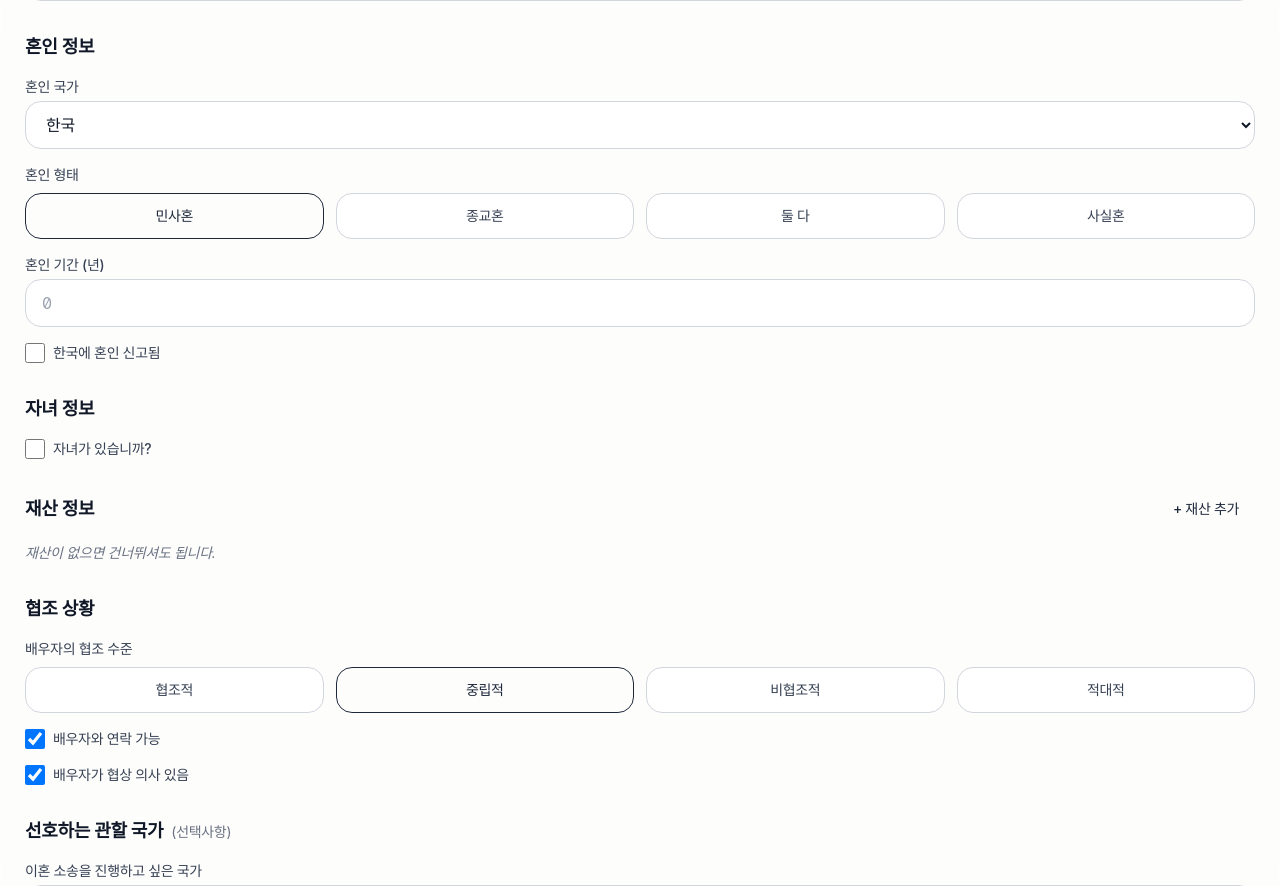
Test: InternationalDivorceForm › allows adding and removing child ages
(page scrolled)
# Enable children section
Click the checkbox labelled "자녀가 있습니까?". click: (35, 449)
box: [25, 439, 45, 459]
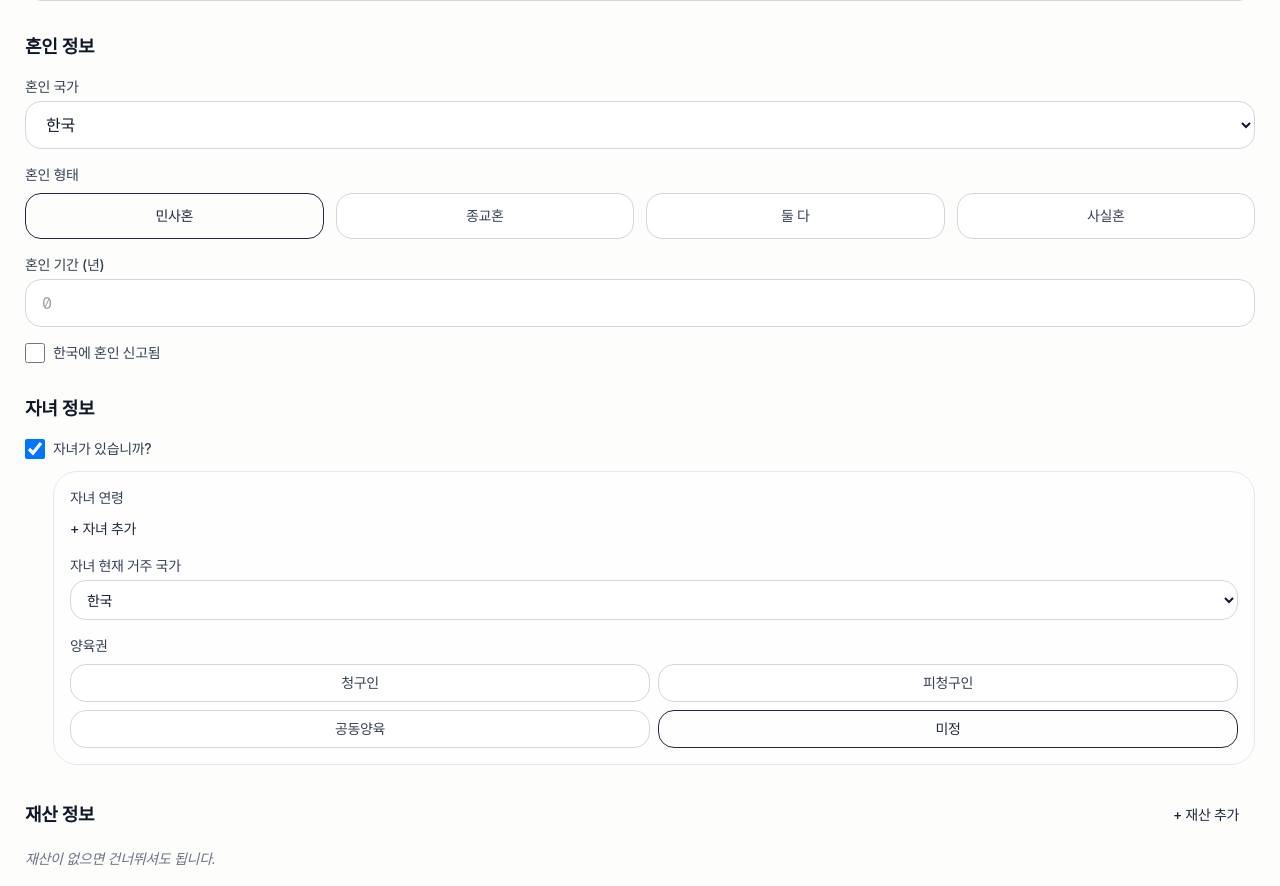
# Add child age
Click the button "+ 자녀 추가". click: (103, 529)
box: [70, 519, 136, 539]
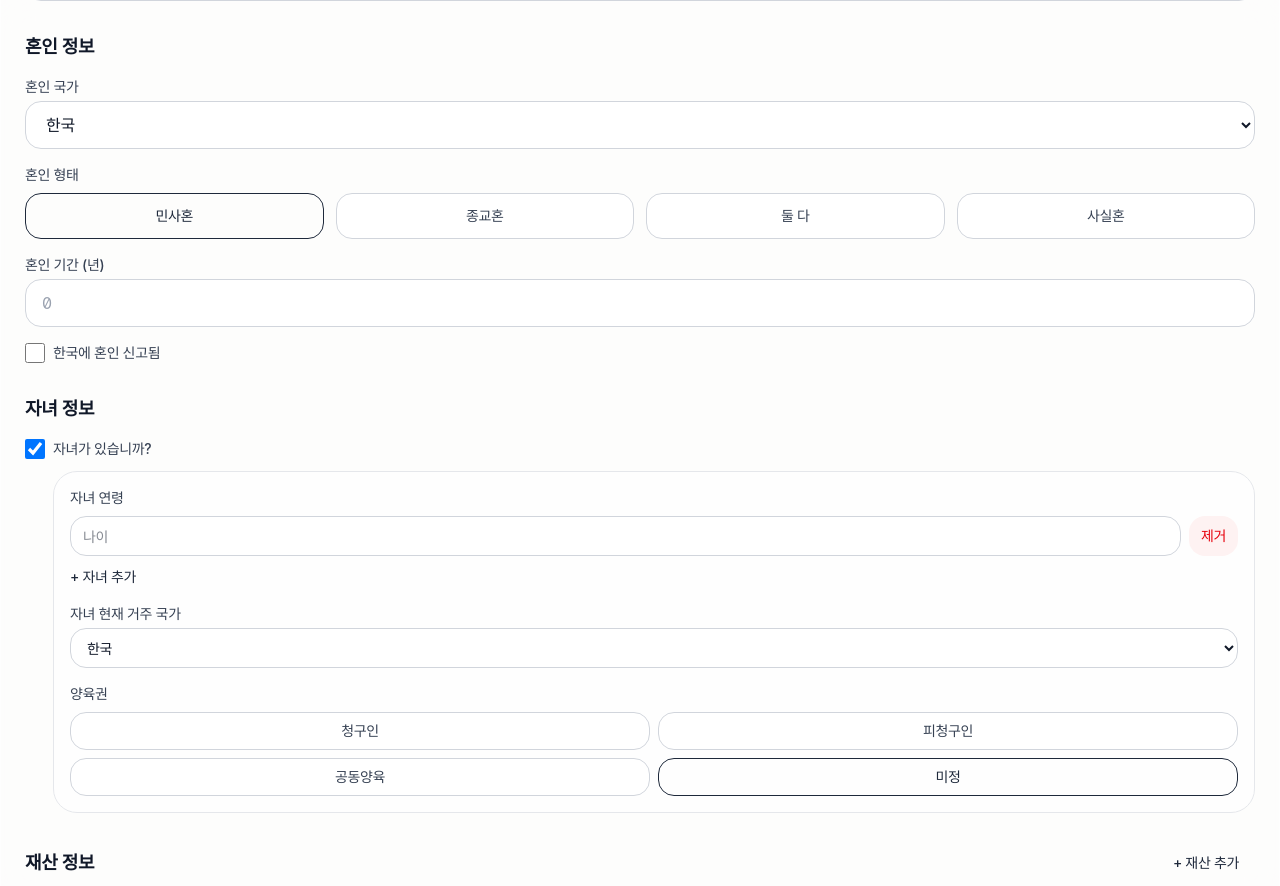
Expected: the number of number fields with placeholder "나이" is 1, [70, 516, 1181, 556]
# Add another child
Click the button "+ 자녀 추가". click: (103, 577)
box: [70, 567, 136, 587]
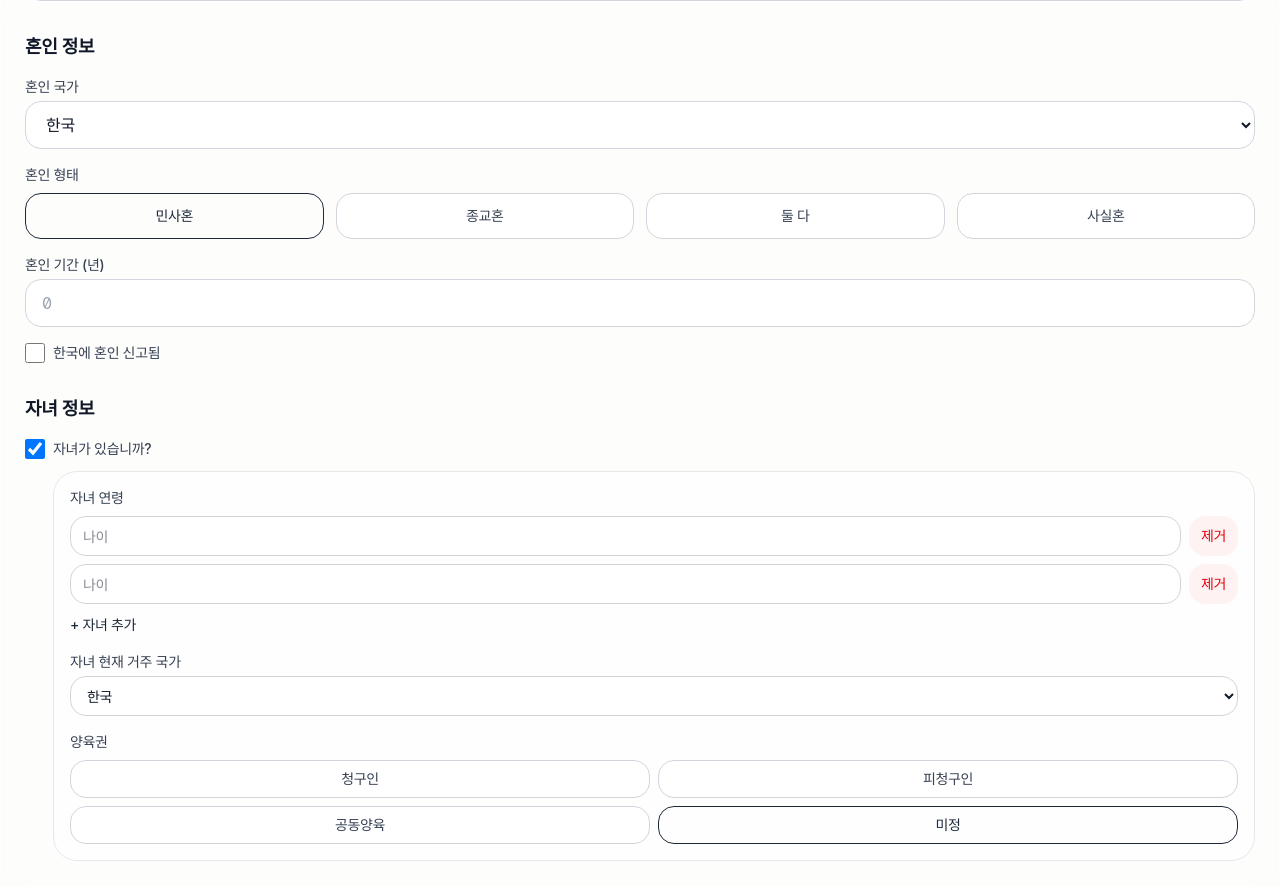
Expected: the number of number fields with placeholder "나이" is 2, [70, 516, 1181, 556]; [70, 564, 1181, 604]
# Remove first child
Click the 1st button "제거". click: (1213, 536)
box: [1189, 516, 1238, 556]
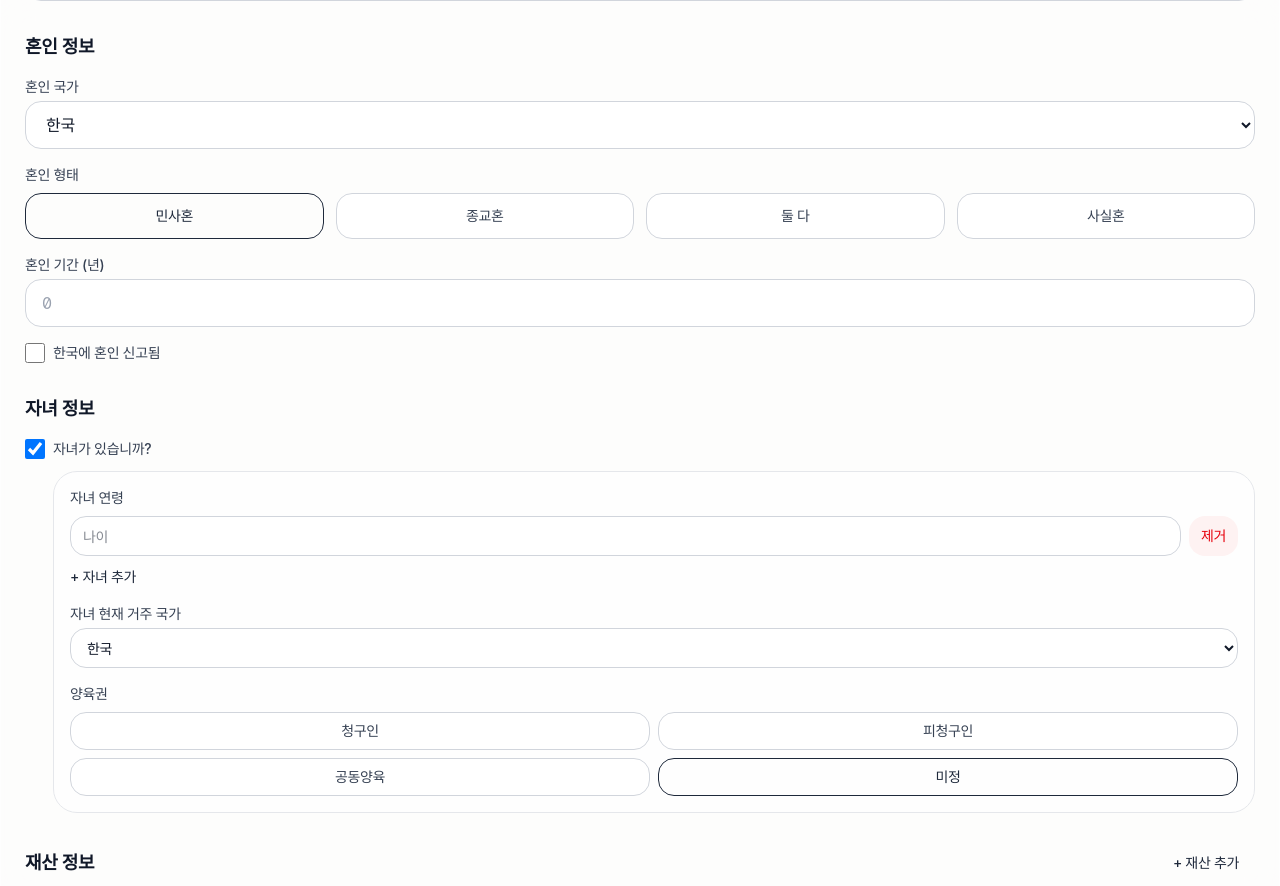
Expected: the number of number fields with placeholder "나이" is 1, [70, 516, 1181, 556]
